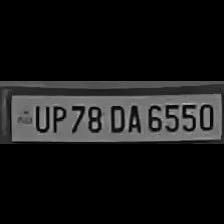0: (196, 100, 214, 130)
5: (162, 99, 180, 131), (179, 99, 197, 131)
6: (144, 100, 162, 132)
7: (66, 100, 86, 134)
8: (84, 101, 104, 133)
A: (125, 100, 143, 132)
D: (106, 100, 127, 134)
P: (47, 102, 66, 132)
U: (30, 100, 50, 132)
